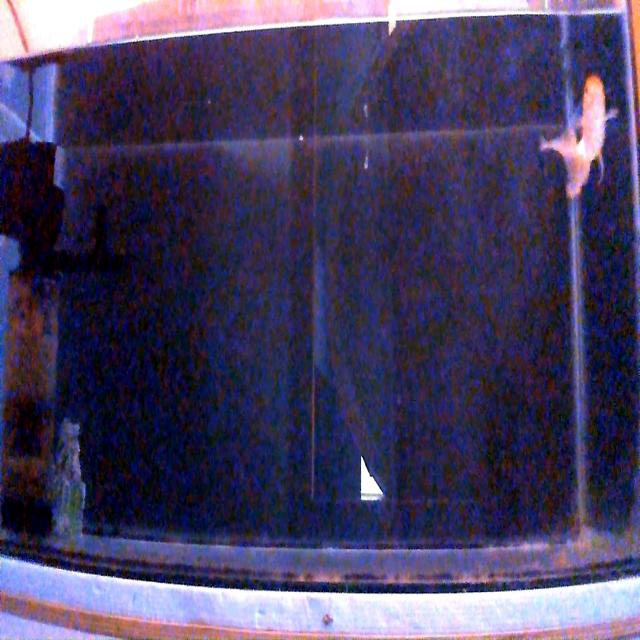fish: (538, 76, 616, 200)
